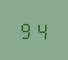four: (33, 19, 46, 40)
nine: (19, 19, 32, 39)
